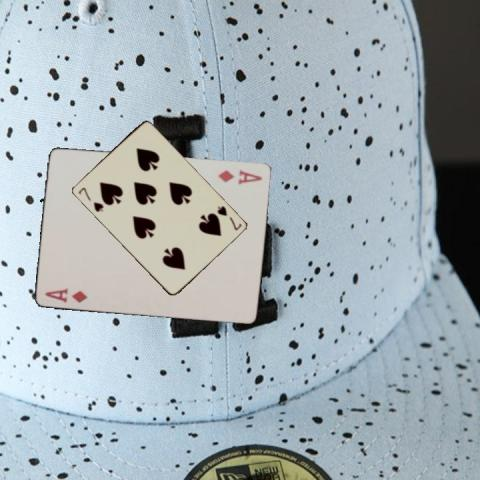7s: (74, 184, 104, 213), (214, 203, 243, 232)
Ad: (215, 167, 265, 185), (42, 285, 89, 304)
